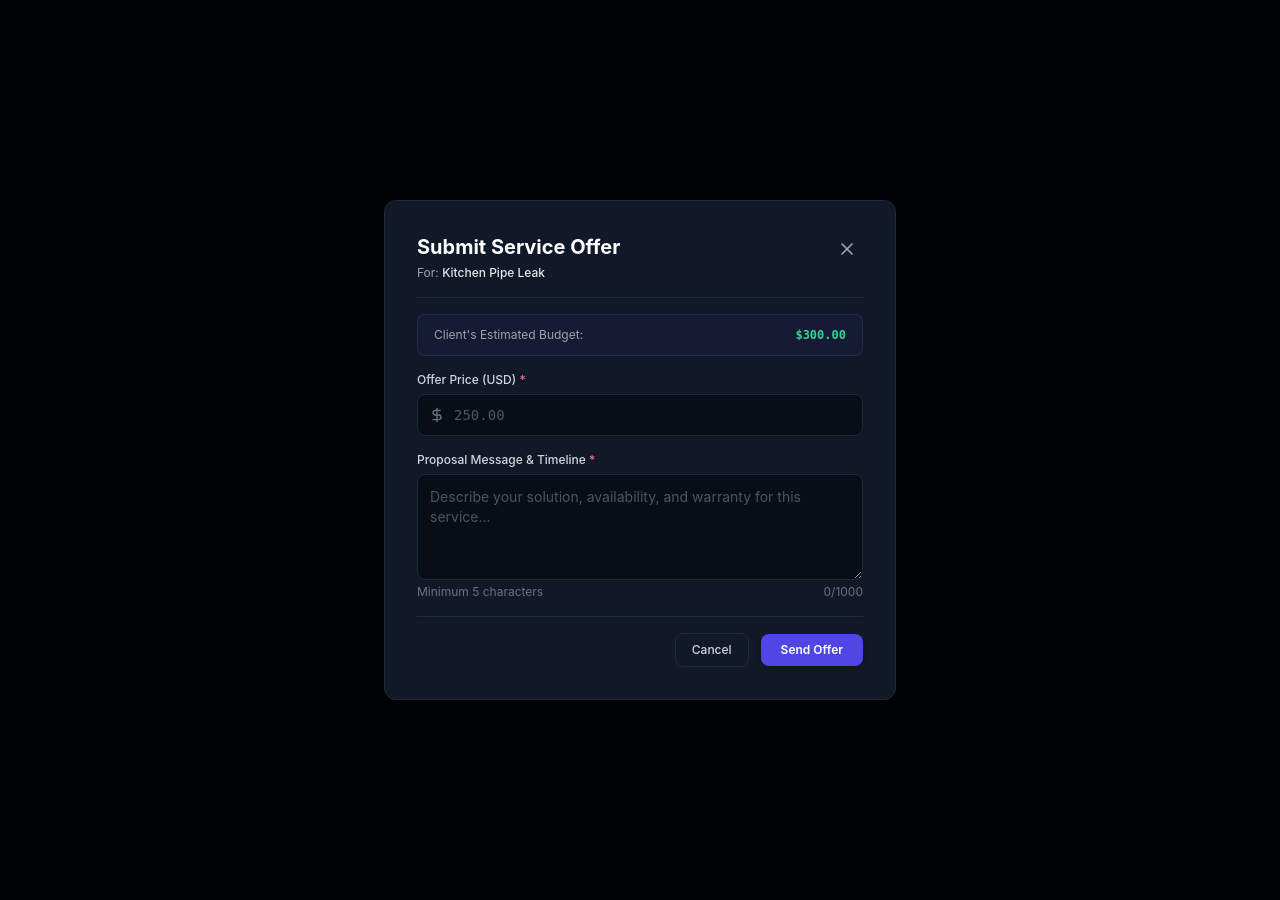
Test: FEAT-003-FE: Offers UI & Customer Acceptance Flow › should validate proposal message length before submission
The image size is (1280, 900).
Type "200" into the number field labelled "Offer Price (USD) *" at [640, 415], box [417,394,863,436]
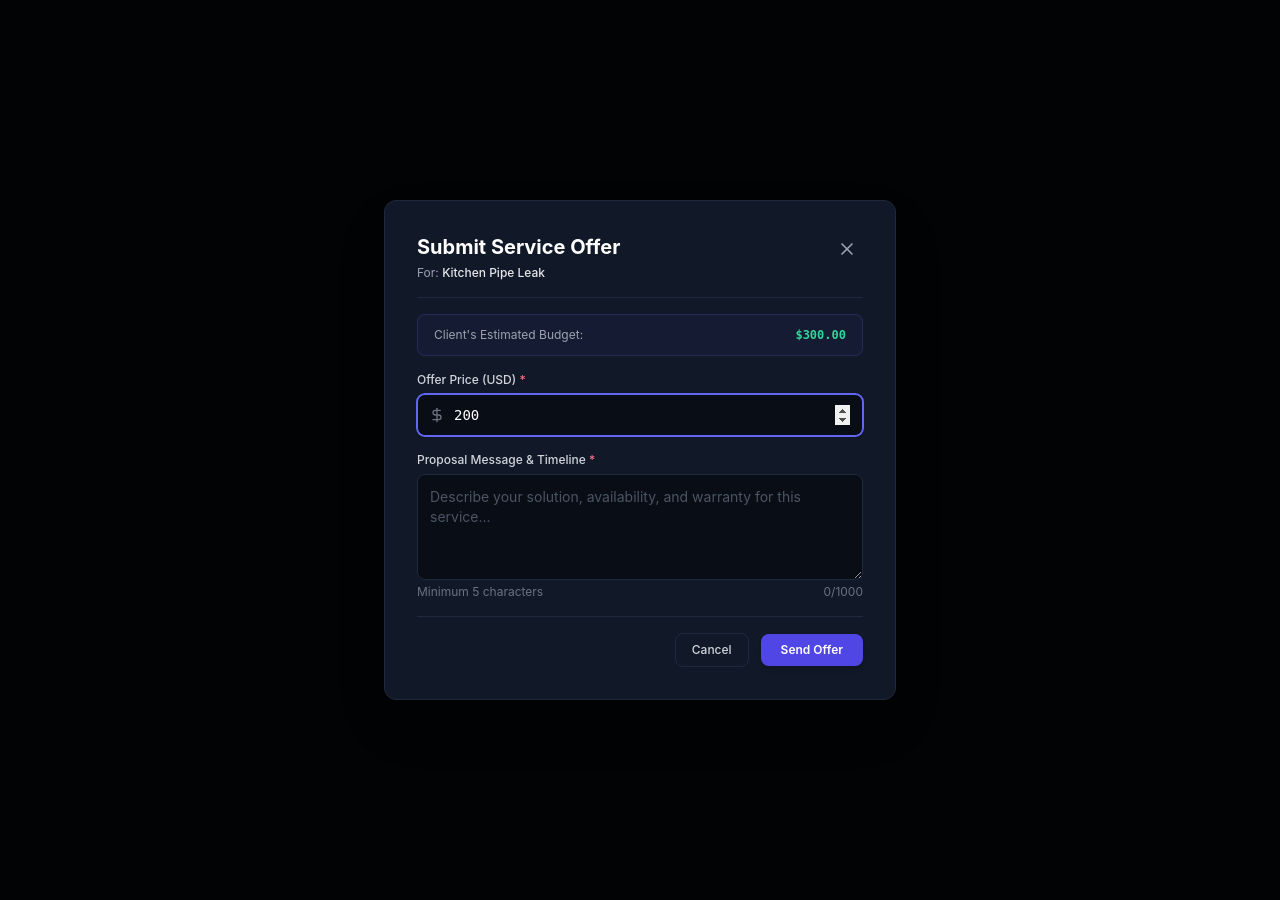
Type "Hi" into the text box labelled "Proposal Message & Timeline *" at [640, 527], box [417,474,863,580]
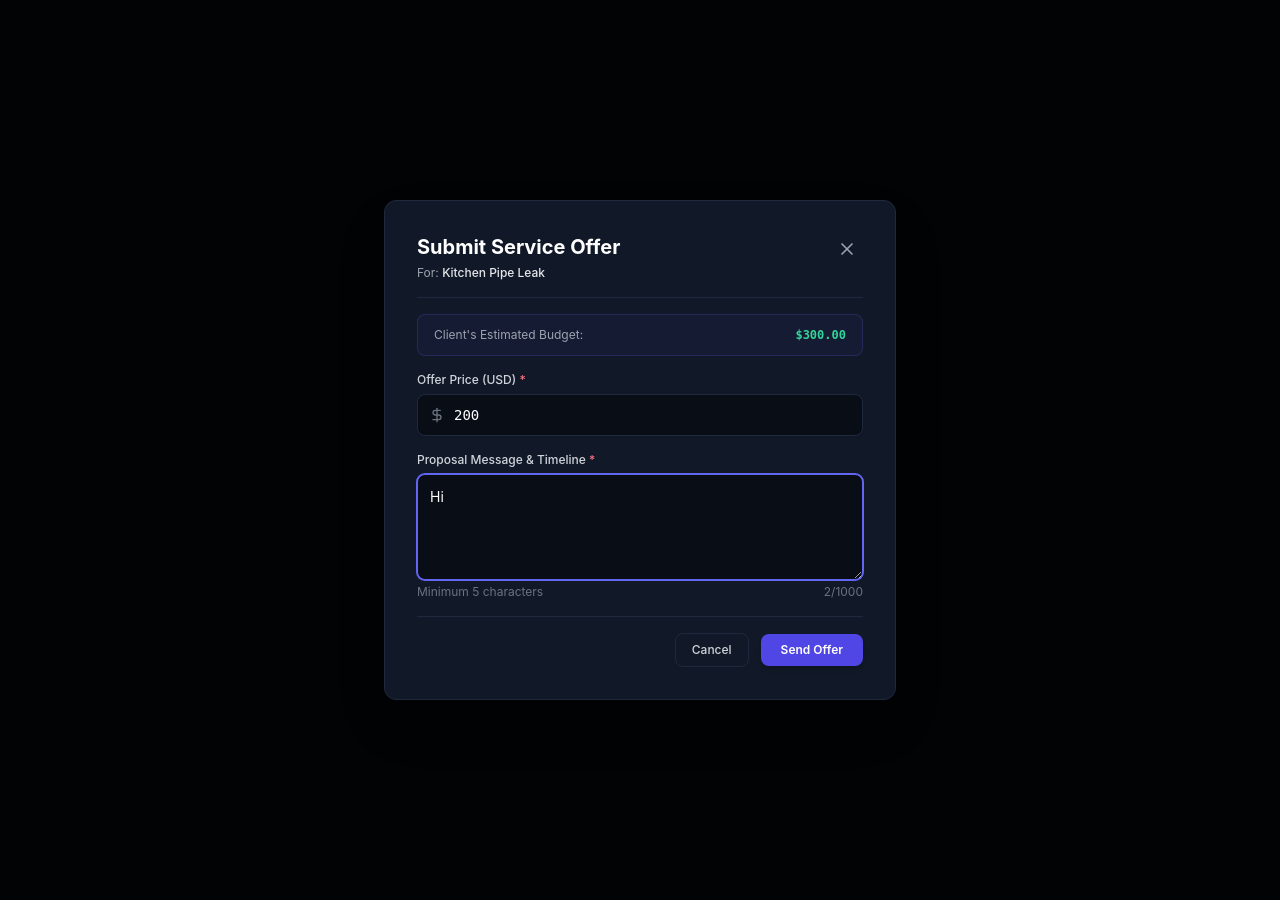
Click the button "Send Offer" at [812, 650], box [761,634,863,666]
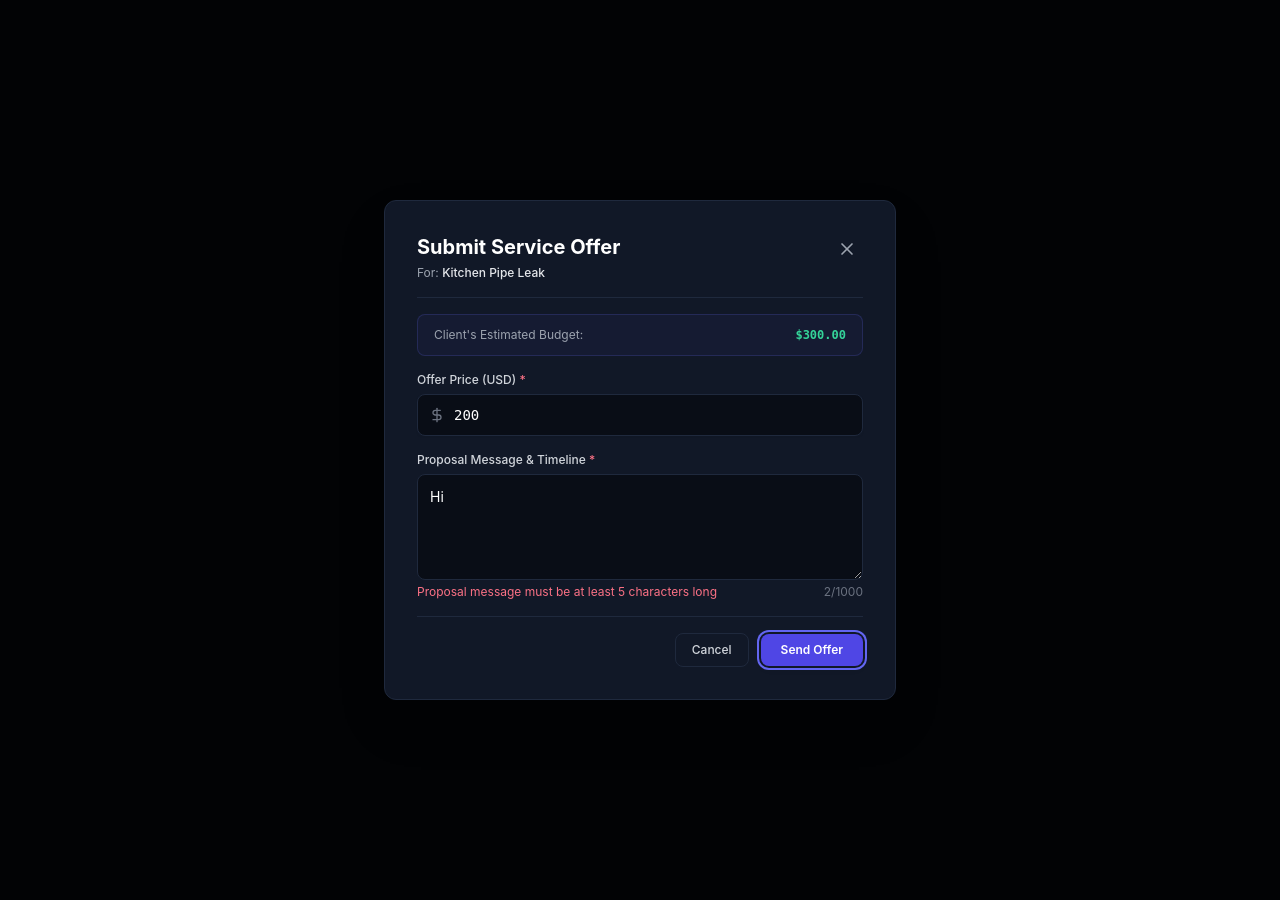
expect the text "Proposal message must be at least 5 characters long" is shown: met, box [417,584,717,599]
